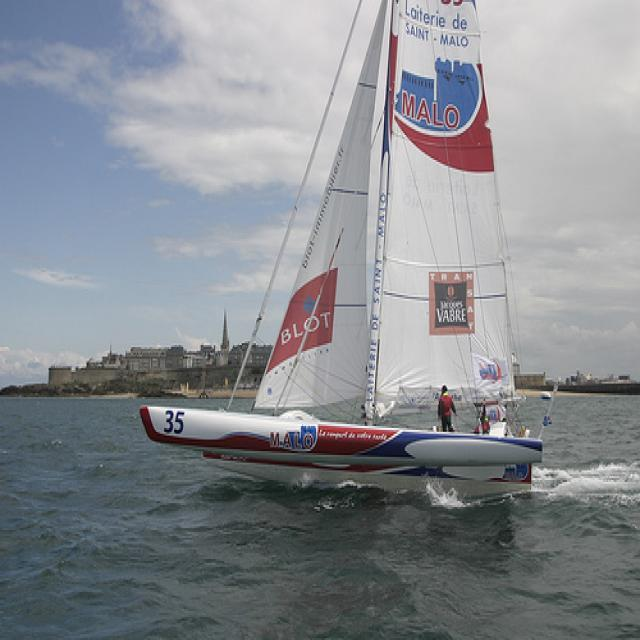Ship: (149, 6, 556, 500)
